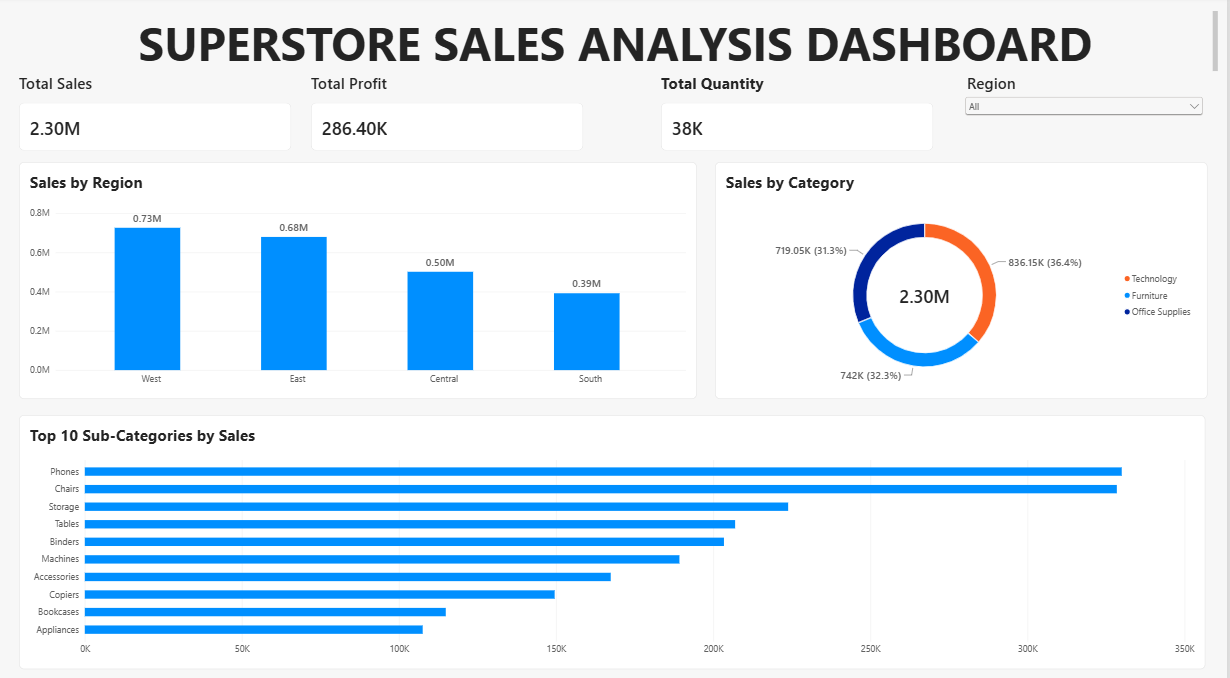

This screenshot's page, from the dashboard's own definition file:
{"tool":"powerbi","page":{"name":"Page 1","canvas":[1920,1080],"ordinal":0},"visuals":[{"type":"cardVisual","title":"Total Sales","fields":{"Data":["Sum(SampleSuperstore.Sales)"]},"box":[30.3,117.2,426.4,123.3],"z":0},{"type":"cardVisual","title":"Total Profit","fields":{"Data":["Sum(SampleSuperstore.Profit)"]},"box":[533.6,295.1,426.4,123.3],"z":1},{"type":"cardVisual","title":"Total Quantity","fields":{"Data":["Sum(SampleSuperstore.Quantity)"]},"box":[1034.8,117.2,426,123.3],"z":2},{"type":"clusteredColumnChart","title":"Sales by Region","fields":{"Category":["SampleSuperstore.Region"],"Y":["Sum(SampleSuperstore.Sales)"]},"box":[29.5,257.8,1060.7,370.7],"z":3},{"type":"barChart","title":"Top 10 Sub-Categories by Sales","fields":{"Category":["SampleSuperstore.Sub-Category"],"Y":["Sum(SampleSuperstore.Sales)"]},"box":[30.3,654.8,1857.3,398.1],"z":4},{"type":"donutChart","title":"Sales by Category","fields":{"Category":["SampleSuperstore.Category"],"Y":["Sum(SampleSuperstore.Sales)"]},"box":[1119.6,257.8,770.9,370.7],"z":5},{"type":"slicer","fields":{"Values":["SampleSuperstore.Region"]},"box":[1505.7,117.2,382,123.3],"z":6},{"type":"textbox","box":[928,930,961,150],"z":8},{"type":"textbox","box":[28.3,22.2,1877.6,95],"z":9},{"type":"cardVisual","title":"Total Profit","fields":{"Data":["Sum(SampleSuperstore.Profit)"]},"box":[487.1,117.2,426,123.3],"z":10}]}

Visuals, with their boxes in screenshot pixels (x1, y1, x2, y2), scaled from the page's 1920x1080 canvas onto the 1230x678 screenshot:
"Total Sales" cardVisual: 19/74/293/151
"Total Profit" cardVisual: 342/185/615/263
"Total Quantity" cardVisual: 663/74/936/151
"Sales by Region" clusteredColumnChart: 19/162/698/395
"Top 10 Sub-Categories by Sales" barChart: 19/411/1209/661
"Sales by Category" donutChart: 717/162/1211/395
slicer - SampleSuperstore.Region: 965/74/1209/151
textbox: 594/584/1210/677
textbox: 18/14/1221/74
"Total Profit" cardVisual: 312/74/585/151
